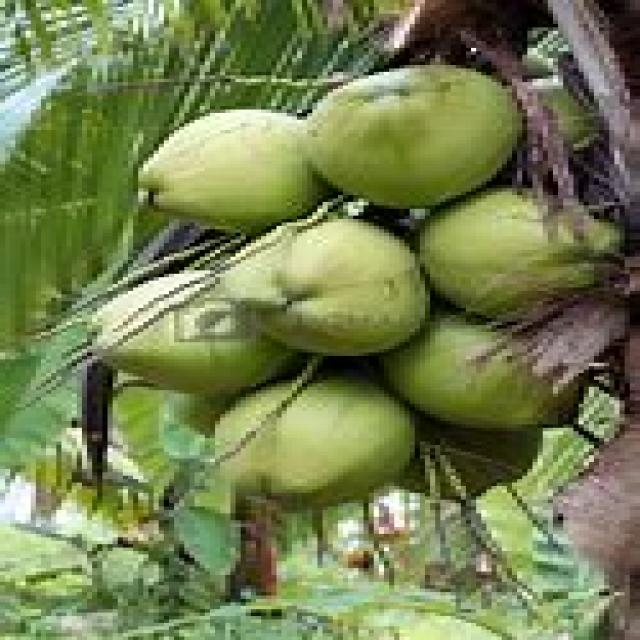coconut: (304, 61, 532, 208), (205, 379, 416, 512), (425, 183, 627, 319), (228, 220, 425, 352), (133, 104, 311, 225)
